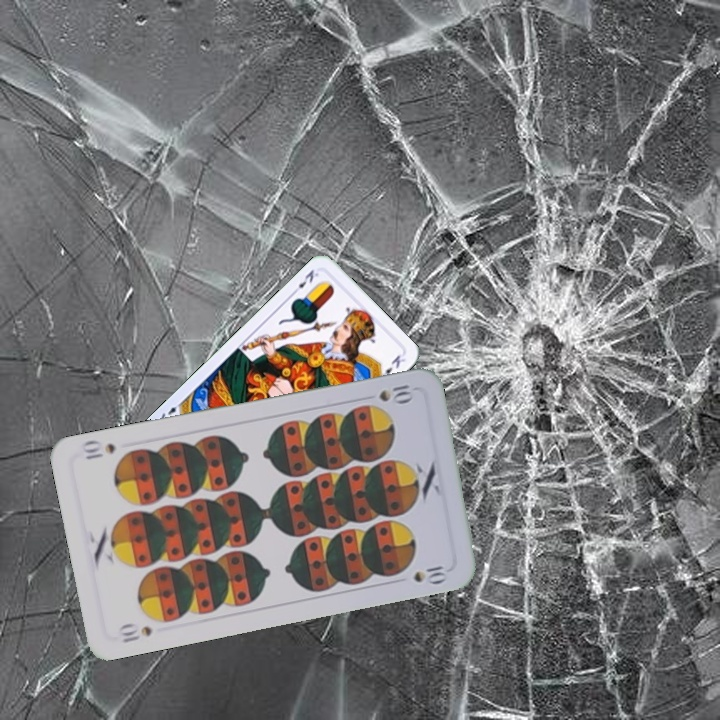EK: (288, 265, 321, 297)
S10: (114, 620, 154, 646), (375, 380, 414, 405)
